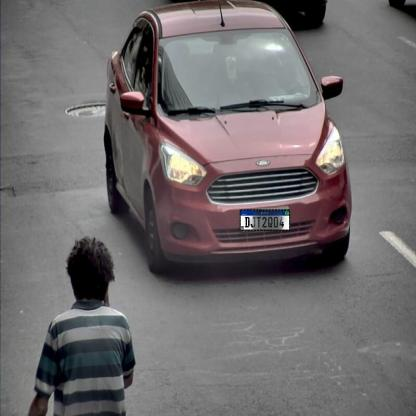PlacaM: (240, 209, 290, 231)
